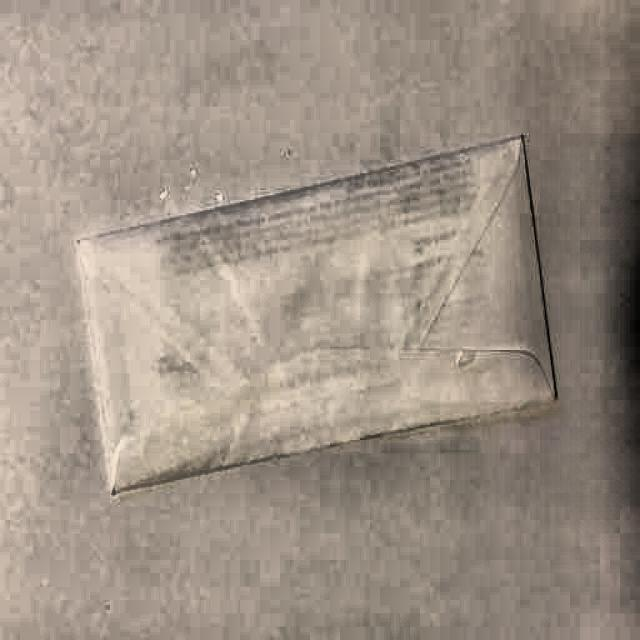paper: (72, 136, 564, 497)
